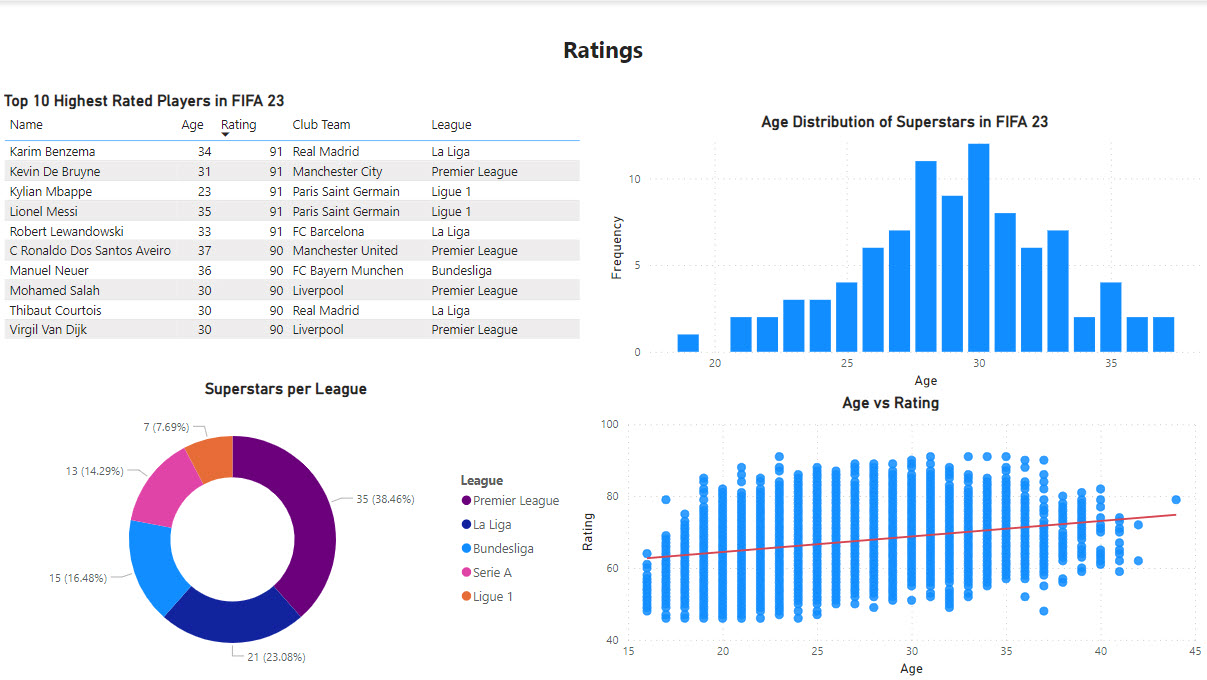

What the dashboard file says about the page in this screenshot:
{"tool":"powerbi","page":{"name":"Ratings","canvas":[1280,720],"ordinal":0},"visuals":[{"type":"tableEx","title":"Top 10 Highest Rated Players in FIFA 23","fields":{"Values":["highest_rated.name","highest_rated.age","highest_rated.overall","highest_rated.club","highest_rated.league"]},"box":[0,96,640,304],"z":0},{"type":"scatterChart","title":"Age vs Rating","fields":{"X":["age_vs_overall.age"],"Y":["age_vs_overall.overall"]},"box":[610.3,414.8,669.1,305.2],"z":1000},{"type":"clusteredColumnChart","title":"Age Distribution of Superstars in FIFA 23 ","fields":{"Category":["stars_per_age.age"],"Y":["stars_per_age.age_frequency"]},"box":[640.5,117.6,638.9,297.2],"z":2000},{"type":"donutChart","title":"Superstars per League","fields":{"Category":["stars_per_league.league_name"],"Y":["stars_per_league.num_stars"]},"box":[0,400,608,320],"z":3000},{"type":"textbox","box":[489.5,28.6,300.4,54],"z":4000}]}

Visuals, with their boxes in screenshot pixels (x1, y1, x2, y2), scaled from the page's 1280x720 canvas onto the 1207x680 screenshot:
"Top 10 Highest Rated Players in FIFA 23" tableEx: pyautogui.locateOnScreen(0, 91, 604, 378)
"Age vs Rating" scatterChart: pyautogui.locateOnScreen(575, 392, 1206, 679)
"Age Distribution of Superstars in FIFA 23 " clusteredColumnChart: pyautogui.locateOnScreen(604, 111, 1206, 392)
"Superstars per League" donutChart: pyautogui.locateOnScreen(0, 378, 573, 679)
textbox: pyautogui.locateOnScreen(462, 27, 745, 78)
